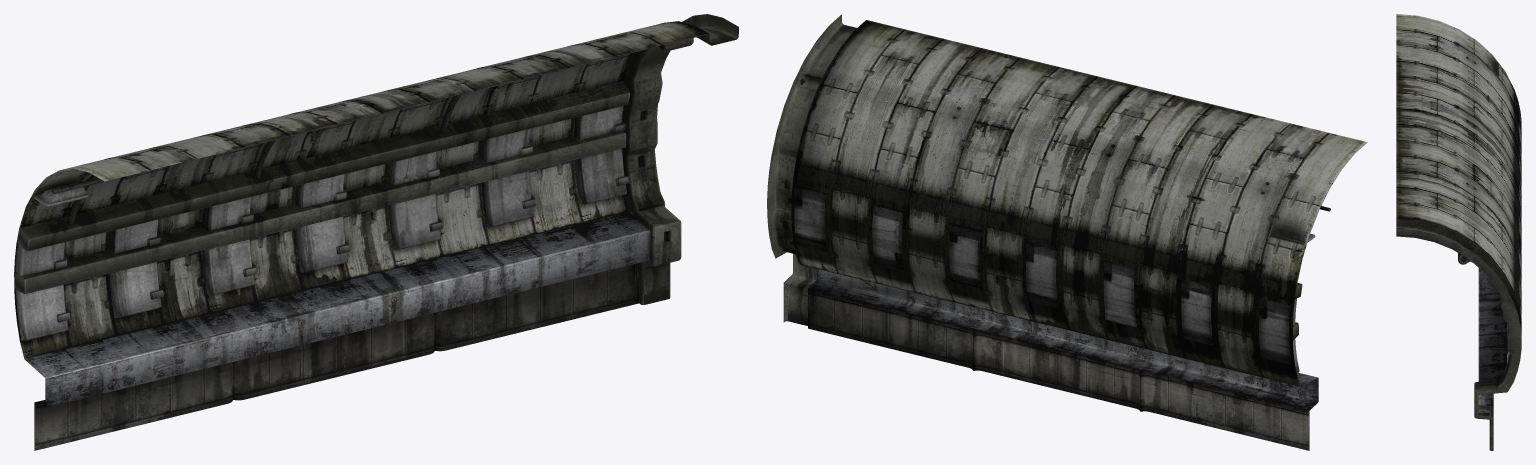
The model's file is 00_02_outside.DAE.
The picture shows the model from 3 angles, left to right: view 1: azimuth 30°, elevation 25°; view 2: azimuth 150°, elevation 25°; view 3: azimuth 270°, elevation 25°; orthographic projection. The views are drawn at different scales.
Parts seen in each view (by area): view 1: Object01; view 2: Object01; view 3: Object01.
Part boxes in pixels (left/top/right/bottom): Object01: left=14, top=14, right=738, bottom=450; Object01: left=767, top=14, right=1367, bottom=450; Object01: left=1396, top=14, right=1521, bottom=450.
Size of the model in its own units: 20.1 by 4.94 by 9.67.
